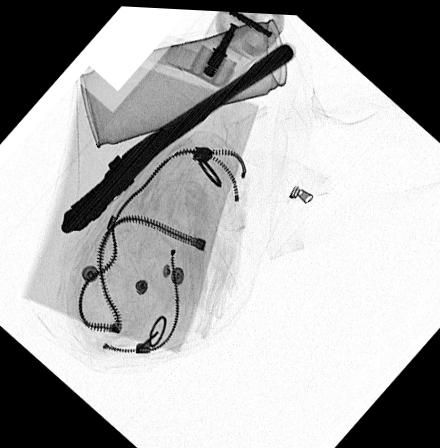Wrench: (58, 36, 294, 236)
